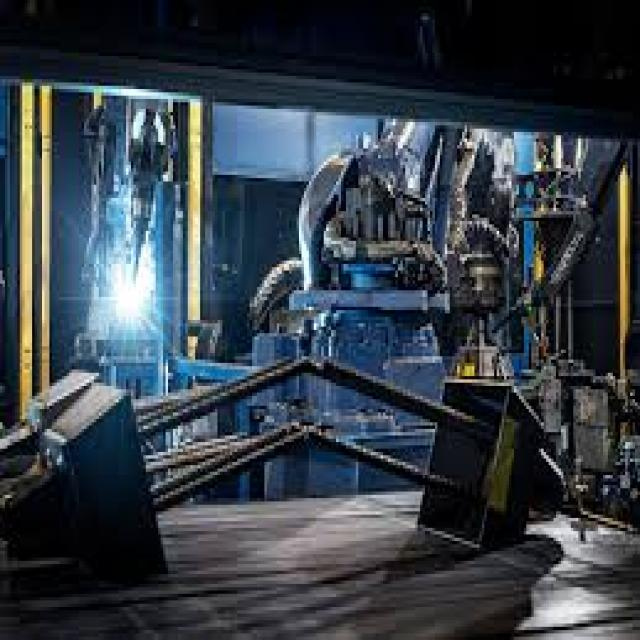welding: (117, 271, 156, 323)
